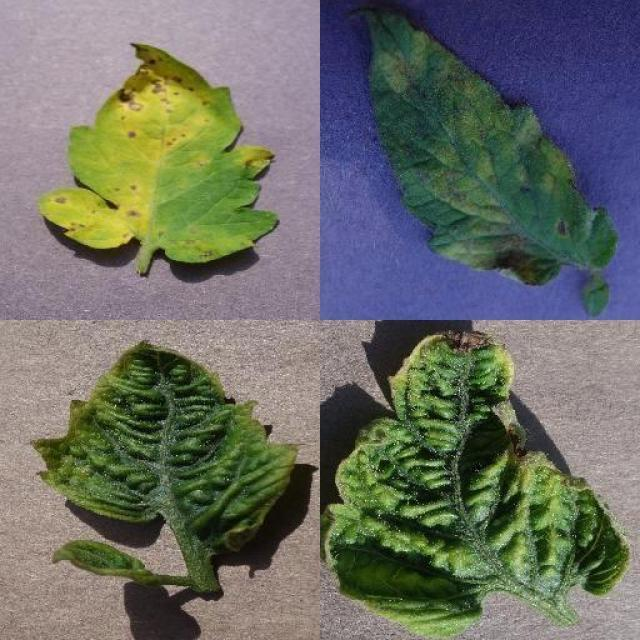Septoria: (41, 44, 280, 266)
